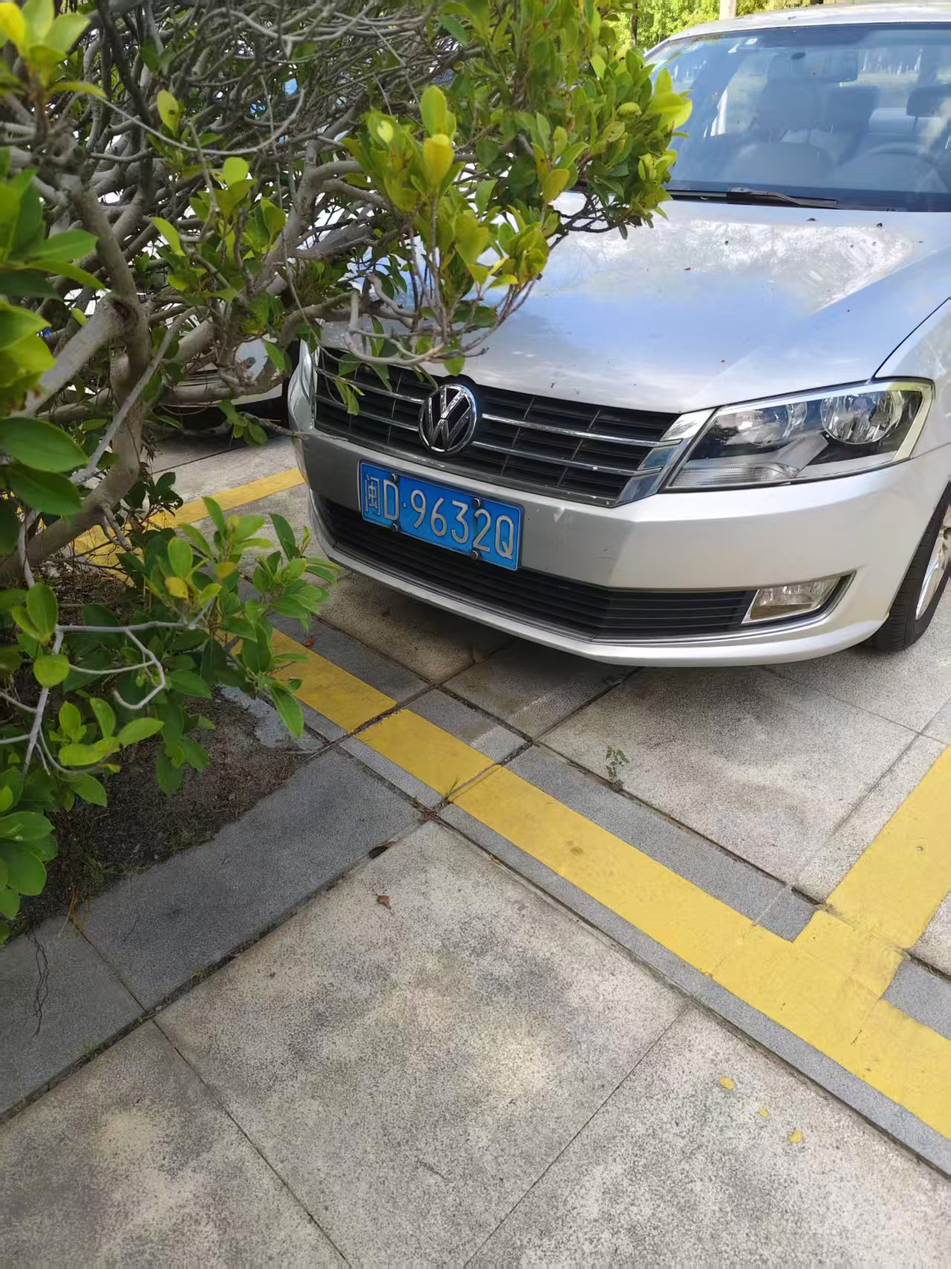plate: (358, 463, 526, 572)
